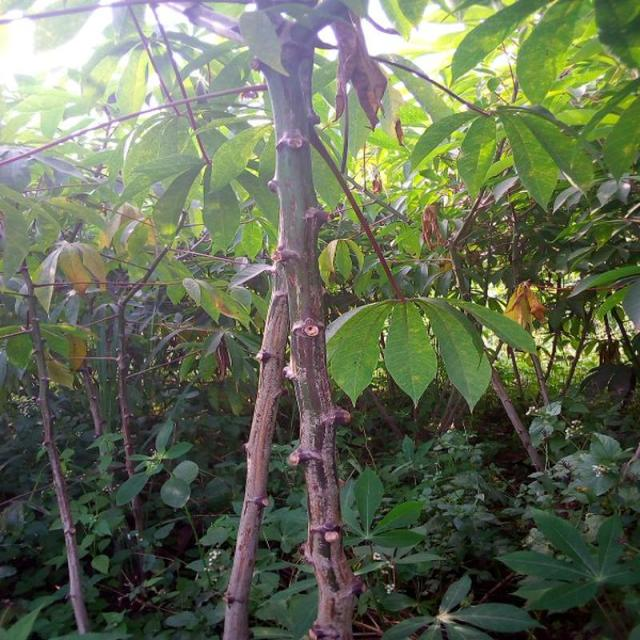cassava leaf: (322, 292, 536, 415)
